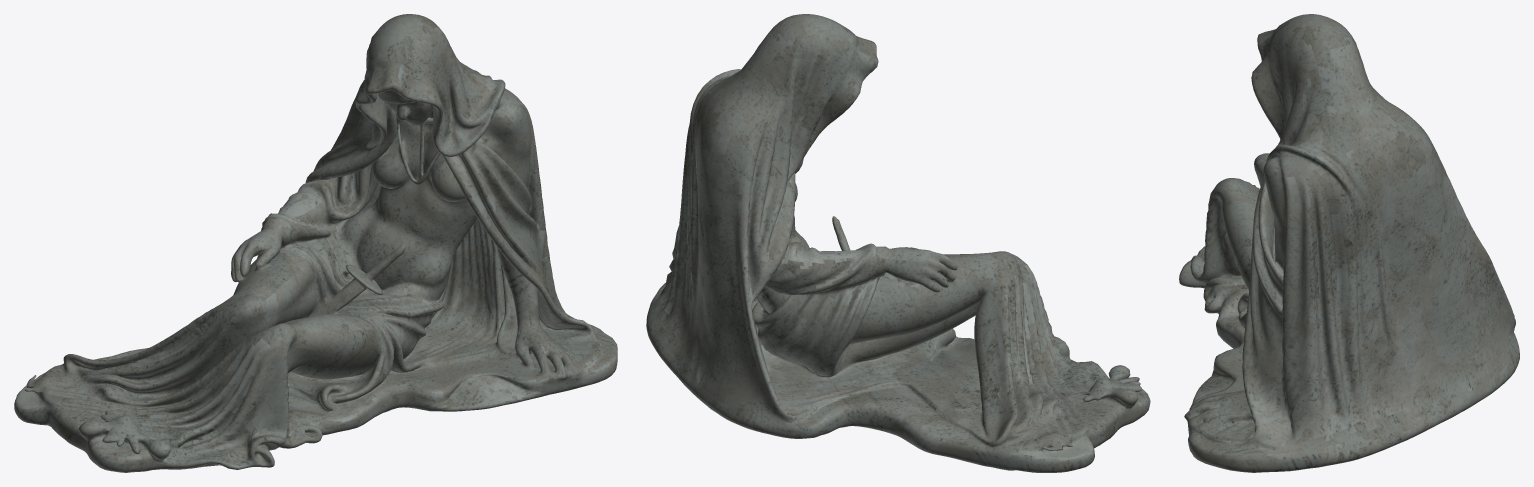
Rendered from GTH_Gr2.fbx.
3 renders of one model, left to right at view 1: azimuth 30°, elevation 25°; view 2: azimuth 150°, elevation 25°; view 3: azimuth 270°, elevation 25°, orthographic. The views are drawn at different scales.
Parts seen in each view (by area): view 1: girl2re; view 2: girl2re; view 3: girl2re.
Part boxes in pixels (x1=…): girl2re: x1=14, y1=14, x2=617, y2=472; girl2re: x1=646, y1=14, x2=1150, y2=472; girl2re: x1=1179, y1=14, x2=1519, y2=472.
Bounding box in the file's own units: 97.81 × 63.93 × 53.55.
